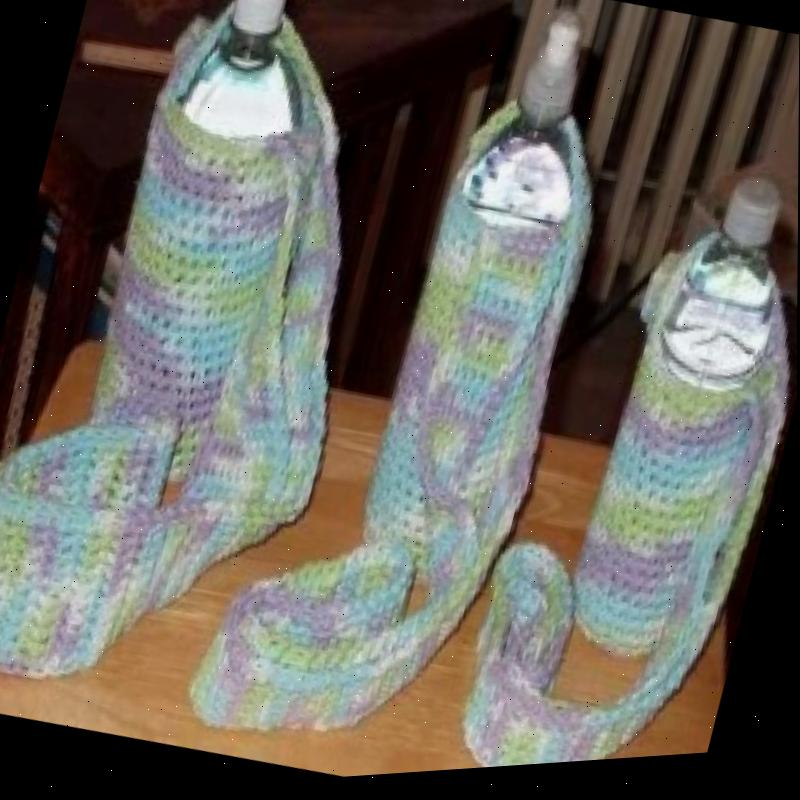botella: (447, 6, 625, 250), (646, 172, 799, 418), (165, 0, 340, 160)
